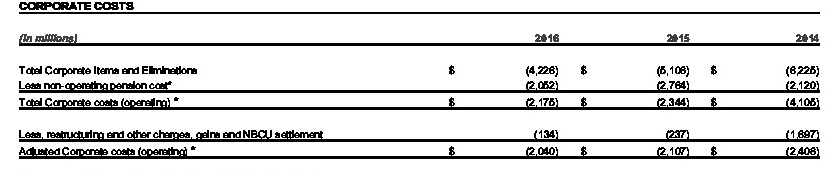table: (0, 0, 837, 173)
